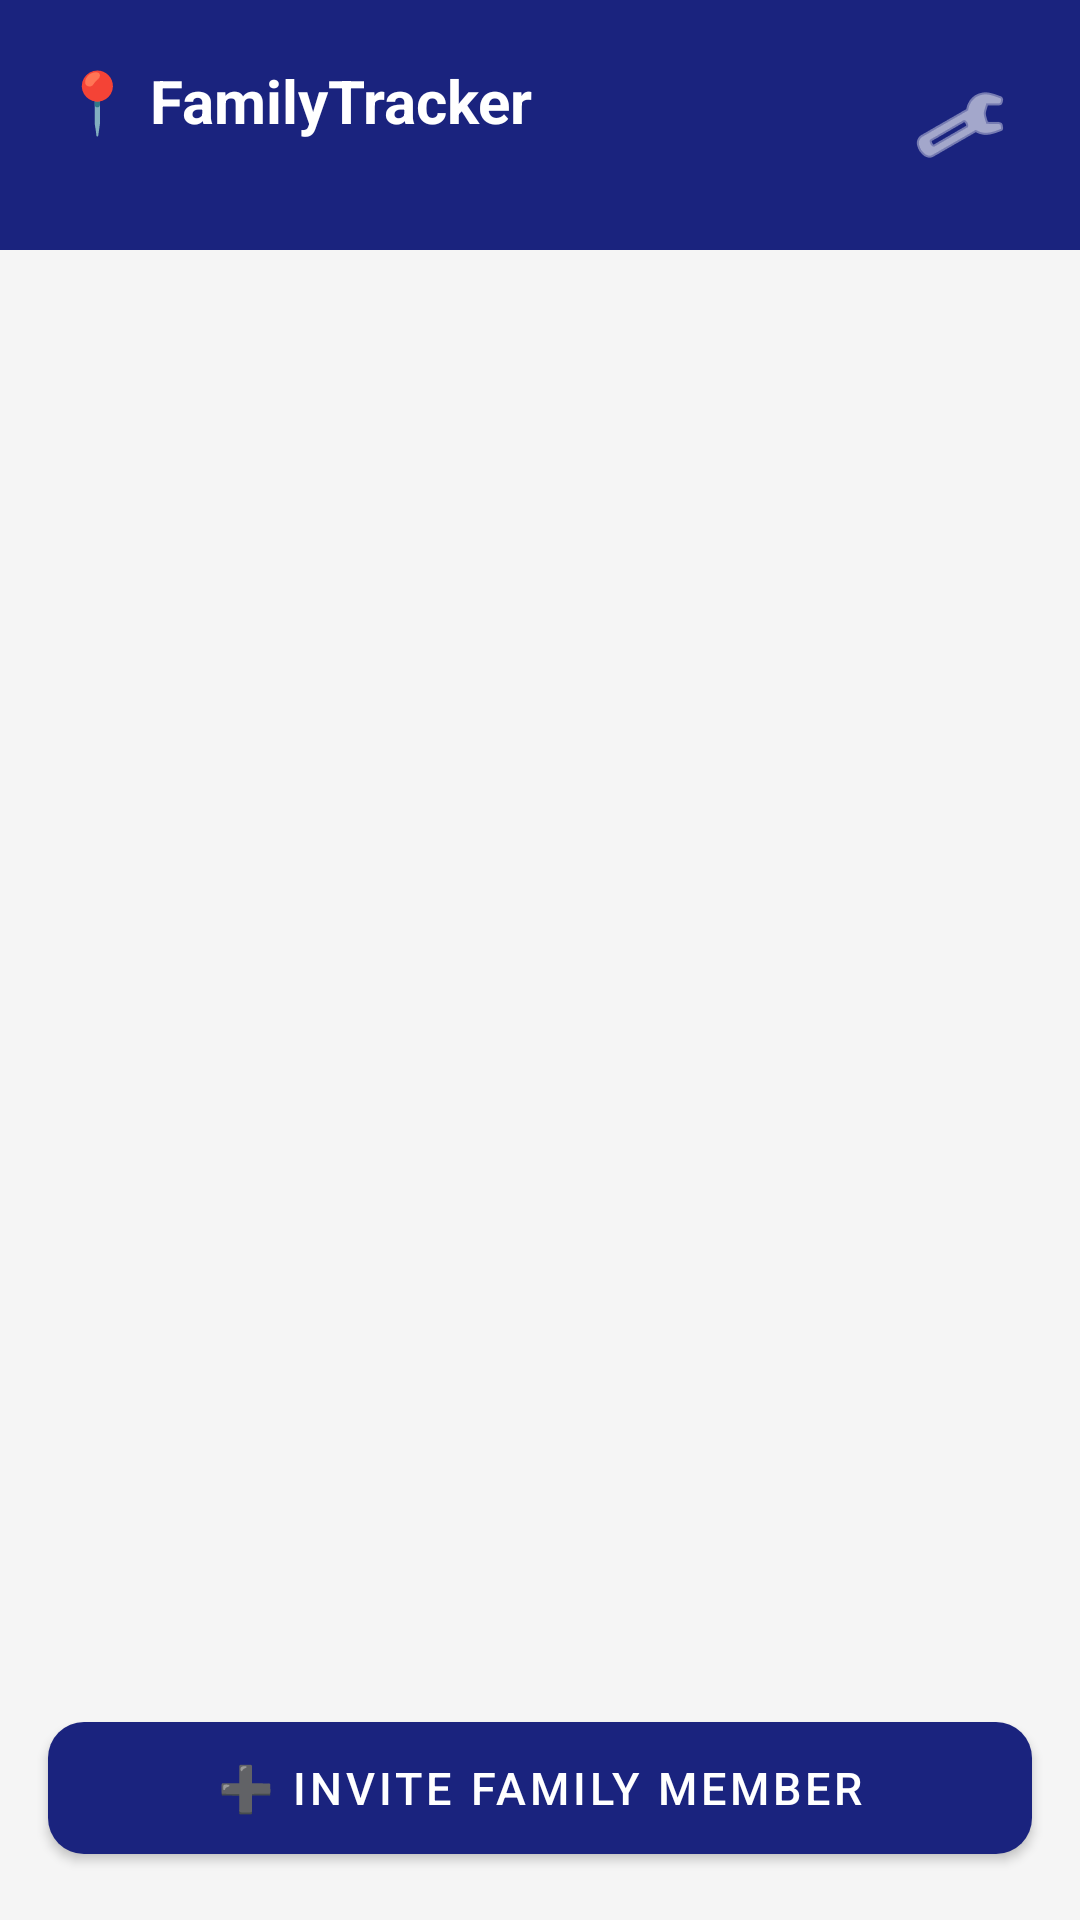

Where icons sit on this 1080px×1920px app screen, as {"x1": x1, "y1": y1, "x2": x2, "y2": y2}:
manage: {"x1": 917, "y1": 92, "x2": 1003, "y2": 158}
